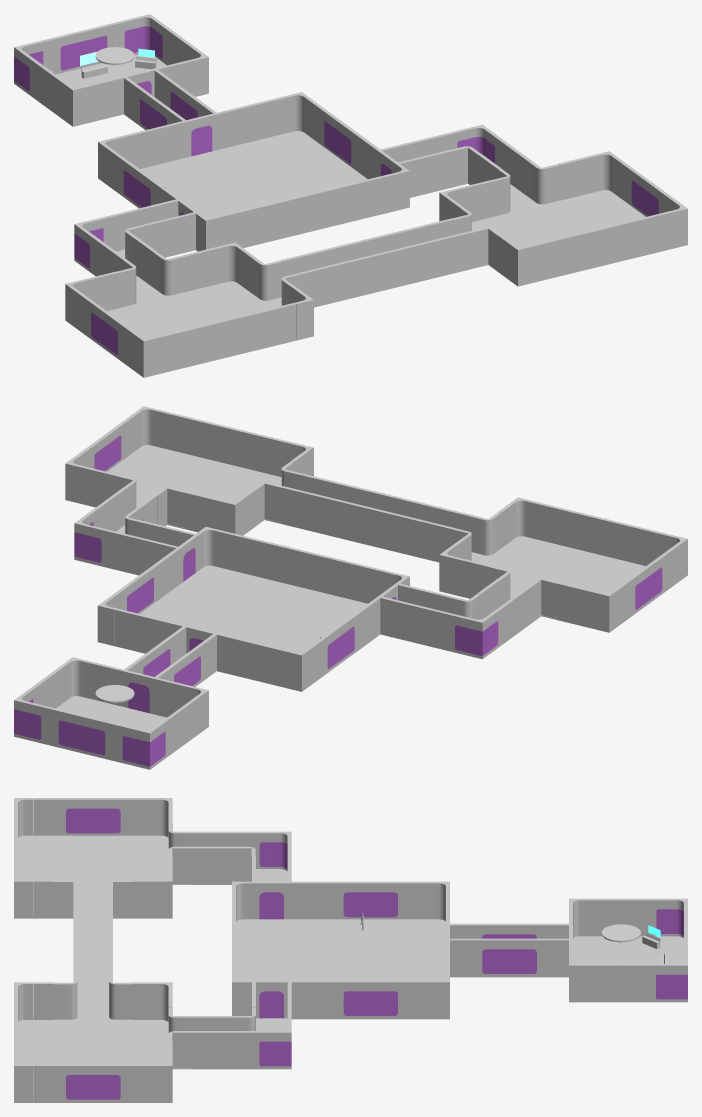
File: Modular Blockout 2.fbx
3 renders of one model, top to bottom at view 1: azimuth 30°, elevation 25°; view 2: azimuth 150°, elevation 25°; view 3: azimuth 270°, elevation 25°, orthographic.
Visible parts, largest first — view 1: Wall_1.011, Wall_1.024, Wall_1.027, Wall_1.030, Wall_1.033, Wall_1.010, Wall_1.026, Wall_1.028, Wall_1.016, Wall_1.031, Wall_1.032, Wall_1.008 (+95 smaller); view 2: Wall_Glass.001, Door.005, Wall_1.029, Wall_1.025, Wall_1.023, Door.006, Wall_1.018, Wall_1.021, Wall_1.022, Door.012, Wall_1.015, Wall_1.028 (+99 smaller); view 3: Wall_Glass.003, Wall_Glass.005, Wall_Glass.002, Wall_Glass.006, Wall_Glass.007, Door.009, Wall_1.007, Wall_1.003, Door.010, Slice.019, Slice.009, Slice.010 (+104 smaller).
Part boxes in pixels (x1=…): Wall_1.011: x1=217, y1=104, x2=252, y2=149; Wall_1.024: x1=184, y1=246, x2=220, y2=291; Wall_1.027: x1=159, y1=327, x2=194, y2=372; Wall_1.030: x1=317, y1=260, x2=352, y2=305; Wall_1.033: x1=419, y1=235, x2=454, y2=280; Wall_1.010: x1=149, y1=121, x2=184, y2=166; Wall_1.026: x1=261, y1=302, x2=296, y2=347; Wall_1.028: x1=210, y1=315, x2=245, y2=360; Wall_1.016: x1=558, y1=155, x2=594, y2=200; Wall_1.031: x1=351, y1=252, x2=386, y2=297; Wall_1.032: x1=385, y1=243, x2=420, y2=288; Wall_1.008: x1=238, y1=203, x2=273, y2=247; Wall_Glass.001: x1=48, y1=707, x2=117, y2=760; Door.005: x1=380, y1=596, x2=415, y2=641; Wall_1.029: x1=298, y1=490, x2=334, y2=535; Wall_1.025: x1=558, y1=582, x2=593, y2=627; Wall_1.023: x1=332, y1=499, x2=368, y2=543; Door.006: x1=414, y1=605, x2=449, y2=649; Wall_1.018: x1=158, y1=410, x2=194, y2=455; Wall_1.021: x1=400, y1=515, x2=436, y2=560; Wall_1.022: x1=366, y1=507, x2=402, y2=551; Door.012: x1=108, y1=530, x2=143, y2=574; Wall_1.015: x1=238, y1=535, x2=273, y2=580; Wall_1.028: x1=584, y1=514, x2=619, y2=559; Wall_Glass.003: x1=331, y1=980, x2=410, y2=1018; Wall_Glass.005: x1=470, y1=938, x2=549, y2=976; Wall_Glass.002: x1=331, y1=881, x2=410, y2=919; Wall_Glass.006: x1=53, y1=798, x2=132, y2=835; Wall_Glass.007: x1=53, y1=1064, x2=132, y2=1101; Door.009: x1=291, y1=881, x2=331, y2=919; Wall_1.007: x1=291, y1=980, x2=331, y2=1018; Wall_1.003: x1=608, y1=964, x2=648, y2=1001; Door.010: x1=212, y1=1031, x2=251, y2=1068; Slice.019: x1=66, y1=808, x2=120, y2=833; Slice.009: x1=343, y1=892, x2=397, y2=917; Slice.010: x1=343, y1=991, x2=397, y2=1015.
Bounding box in the file's own units: 6400 × 410 × 6800.
